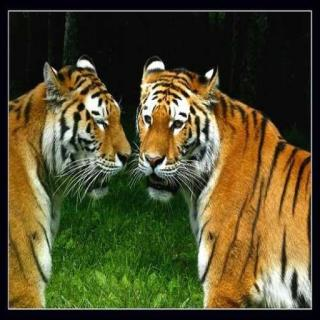Tiger: (131, 53, 308, 306), (10, 45, 136, 312)
